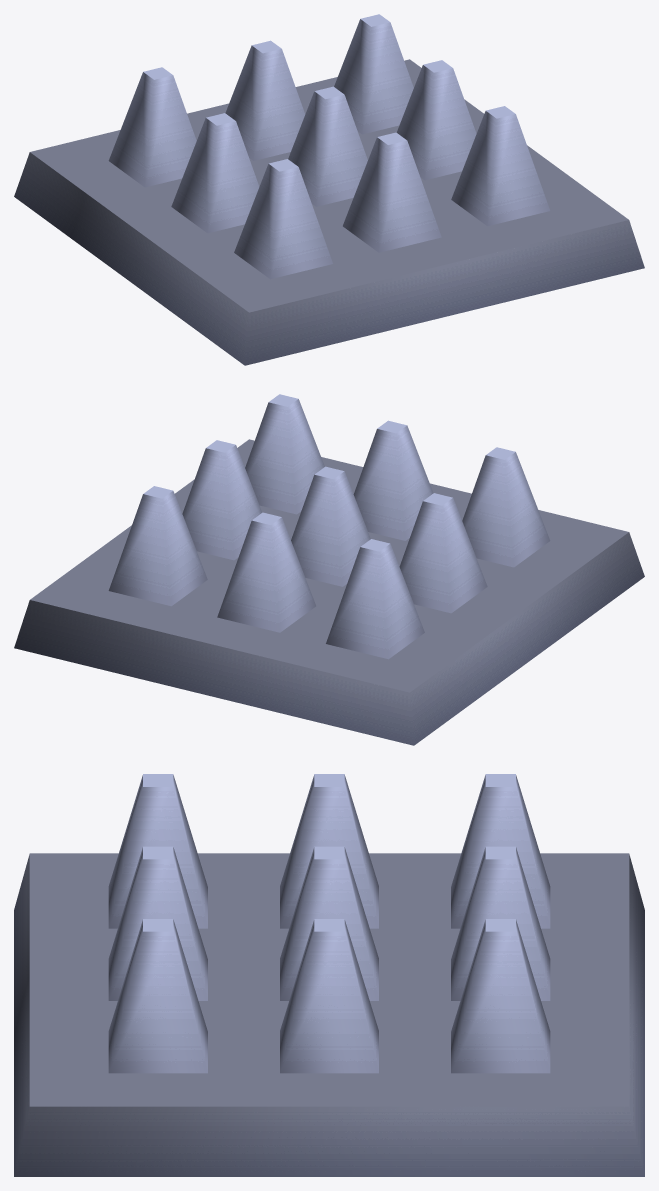
Rendered from trap-spikes-large.glb.
3 views of the same model, one above another, from view 1: azimuth 30°, elevation 25°; view 2: azimuth 150°, elevation 25°; view 3: azimuth 270°, elevation 25° (orthographic). The views are drawn at different scales.
Parts seen in each view (by area): view 1: trap-spikes-large, spikes; view 2: trap-spikes-large, spikes; view 3: trap-spikes-large, spikes.
Part boxes in pixels (<box>): trap-spikes-large: <box>14,59,644,365</box>; spikes: <box>108,14,550,279</box>; trap-spikes-large: <box>14,439,644,745</box>; spikes: <box>108,394,550,659</box>; trap-spikes-large: <box>14,853,644,1176</box>; spikes: <box>108,774,550,1073</box>.
Bounding box in the file's own units: 0.765 × 0.255 × 0.765.
Materials: 1 (1 with a texture image).
